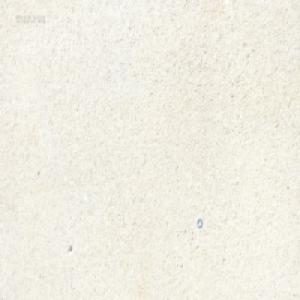Washer: (196, 217, 202, 228)
